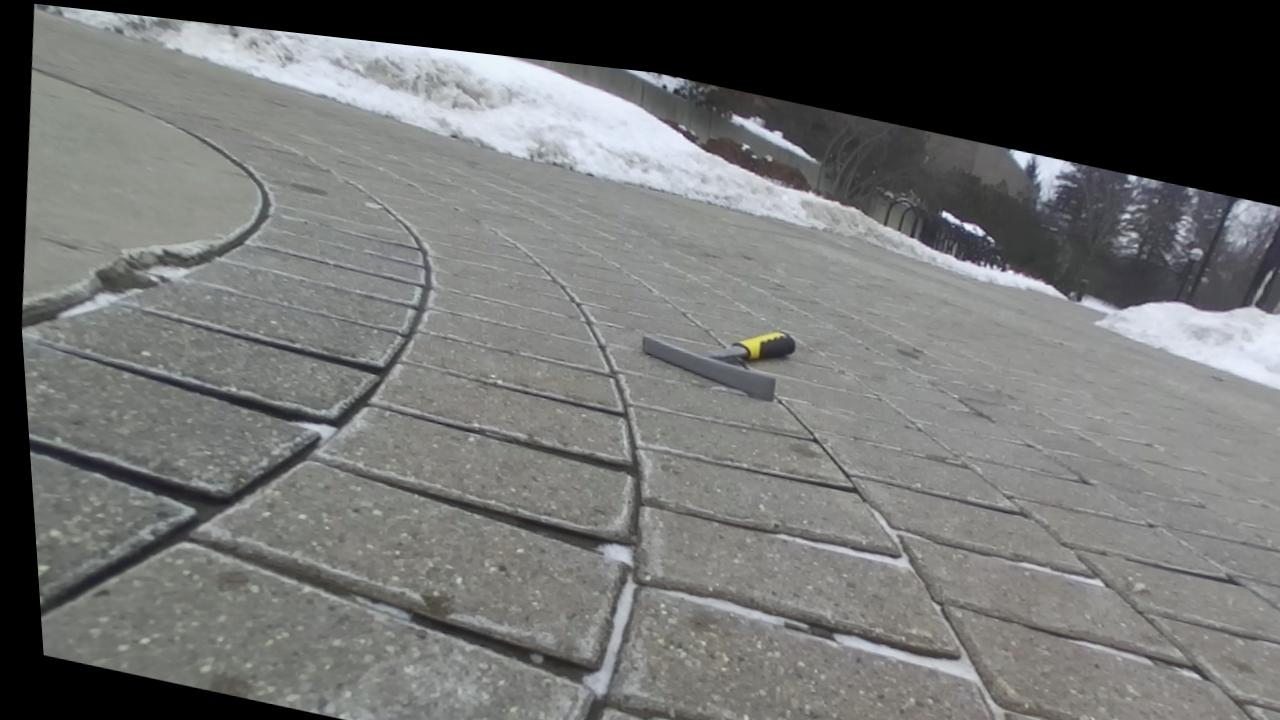pick: (641, 330, 796, 400)
